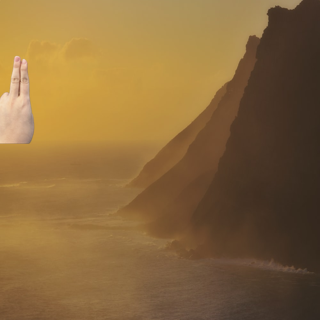DHAVE: (1, 52, 39, 143)
